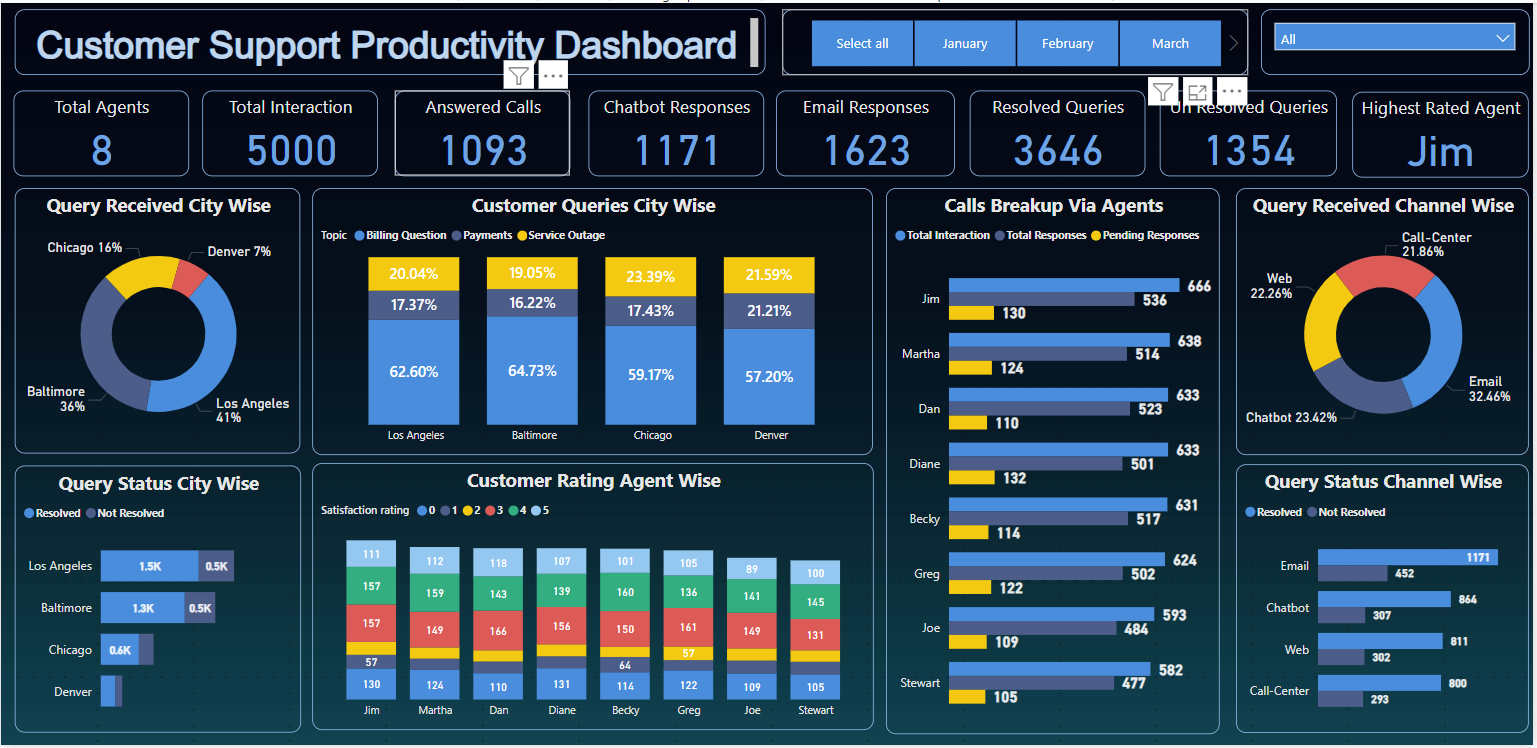

The page's visual inventory and layout, read from the dashboard file:
{"tool":"powerbi","page":{"name":"Dashboard - Customer Support","canvas":[1530,740],"ordinal":0},"visuals":[{"type":"clusteredBarChart","title":"Calls Breakup Via Agents","fields":{"Category":["Call Centre Performance.Agent"],"Y":["Call Centre Performance.Total Calls","Call Centre Performance.Total Calls Answered","Call Centre Performance.Total Calls Rejected"]},"box":[882.8,184.4,333,544.7],"z":0},{"type":"donutChart","title":"Query Received Channel Wise","fields":{"Category":["Call Centre Performance.Channel"],"Y":["Call Centre Performance.Resolution"]},"box":[1231.5,183.9,292.3,266],"z":1000},{"type":"barChart","title":"Query Status City Wise","fields":{"Category":["Call Centre Performance.Call-Centres City"],"Y":["Call Centre Performance.Call Resolved","Call Centre Performance.Not Resolved"]},"box":[13.1,461.4,285.7,266],"z":2000},{"type":"donutChart","title":"Query Received City Wise","fields":{"Y":["Call Centre Performance.Resolution"],"Category":["Call Centre Performance.Call-Centres City"]},"box":[13.7,184.4,285.2,264.7],"z":3000},{"type":"textbox","title":"Super Store Sale","box":[13.1,6.6,748.7,65.7],"z":4000},{"type":"card","title":"Answered Calls","fields":{"Values":["Call Centre Performance.Total Interaction"]},"box":[392.8,86.9,175,85.3],"z":5000},{"type":"card","title":"Total Interaction","fields":{"Values":["Call Centre Performance.Total Calls"]},"box":[201.2,86.9,175,85.3],"z":6000},{"type":"card","title":"Total Agents","fields":{"Values":["Call Centre Performance.Agent"]},"box":[12.9,86.9,175,85.3],"z":7000},{"type":"card","title":"Chatbot Responses","fields":{"Values":["Call Centre Performance.Total Interaction"]},"box":[586,86.9,175,85.3],"z":8000},{"type":"card","title":"Resolved Queries","fields":{"Values":["Call Centre Performance.Resolved"]},"box":[966.4,87.4,174.8,85.8],"z":9000},{"type":"card","title":"Un Resolved Queries","fields":{"Values":["Call Centre Performance.Not Resolved"]},"box":[1156,87.4,176.5,85.8],"z":10000},{"type":"card","title":"Highest Rated Agent","fields":{"Values":["Call Centre Performance.Agent"]},"box":[1348.1,88.7,175.7,85.4],"z":11000},{"type":"slicer","fields":{"Values":["Call Centre Performance.Date.Variation.Date Hierarchy.Day"]},"box":[1256.1,6.6,267.6,65.7],"z":12000},{"type":"clusteredBarChart","title":"Query Status Channel Wise","fields":{"Category":["Call Centre Performance.Channel"],"Y":["Call Centre Performance.Call Resolved","Call Centre Performance.Not Resolved"]},"box":[1231.5,459.8,292.3,267.6],"z":13000},{"type":"hundredPercentStackedColumnChart","title":"Customer Queries City Wise","fields":{"Y":["Call Centre Performance.Calls Answered"],"Category":["Call Centre Performance.Call-Centres City"],"Series":["Call Centre Performance.Topic"]},"box":[311,184.3,559.5,266.6],"z":14000},{"type":"slicer","fields":{"Values":["Call Centre Performance.Date.Variation.Date Hierarchy.Month"]},"box":[779.1,6.6,465.2,65.8],"z":15000},{"type":"columnChart","title":"Customer Rating Agent Wise","fields":{"Category":["Call Centre Performance.Agent"],"Y":["Call Centre Performance.Satisfaction rating"],"Series":["Call Centre Performance.Satisfaction rating"]},"box":[310.8,459.3,560.1,266.4],"z":16000},{"type":"card","title":"Email Responses","fields":{"Values":["Call Centre Performance.Total Interaction"]},"box":[773.4,87.4,178.1,85.8],"z":17000}]}

Visuals, with their boxes in screenshot pixels (x1, y1, x2, y2), scaled from the page's 1530x740 canvas onto the 1537x748 screenshot:
"Calls Breakup Via Agents" clusteredBarChart: pyautogui.locateOnScreen(887, 186, 1221, 737)
"Query Received Channel Wise" donutChart: pyautogui.locateOnScreen(1237, 186, 1531, 455)
"Query Status City Wise" barChart: pyautogui.locateOnScreen(13, 466, 300, 735)
"Query Received City Wise" donutChart: pyautogui.locateOnScreen(14, 186, 300, 454)
"Super Store Sale" textbox: pyautogui.locateOnScreen(13, 7, 765, 73)
"Answered Calls" card: pyautogui.locateOnScreen(395, 88, 570, 174)
"Total Interaction" card: pyautogui.locateOnScreen(202, 88, 378, 174)
"Total Agents" card: pyautogui.locateOnScreen(13, 88, 189, 174)
"Chatbot Responses" card: pyautogui.locateOnScreen(589, 88, 764, 174)
"Resolved Queries" card: pyautogui.locateOnScreen(971, 88, 1146, 175)
"Un Resolved Queries" card: pyautogui.locateOnScreen(1161, 88, 1339, 175)
"Highest Rated Agent" card: pyautogui.locateOnScreen(1354, 90, 1531, 176)
slicer - Call Centre Performance.Date.Variation.Date Hierarchy.Day: pyautogui.locateOnScreen(1262, 7, 1531, 73)
"Query Status Channel Wise" clusteredBarChart: pyautogui.locateOnScreen(1237, 465, 1531, 735)
"Customer Queries City Wise" hundredPercentStackedColumnChart: pyautogui.locateOnScreen(312, 186, 874, 456)
slicer - Call Centre Performance.Date.Variation.Date Hierarchy.Month: pyautogui.locateOnScreen(783, 7, 1250, 73)
"Customer Rating Agent Wise" columnChart: pyautogui.locateOnScreen(312, 464, 875, 734)
"Email Responses" card: pyautogui.locateOnScreen(777, 88, 956, 175)
